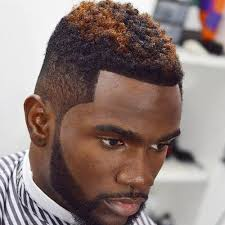black_male: (23, 17, 194, 225)
